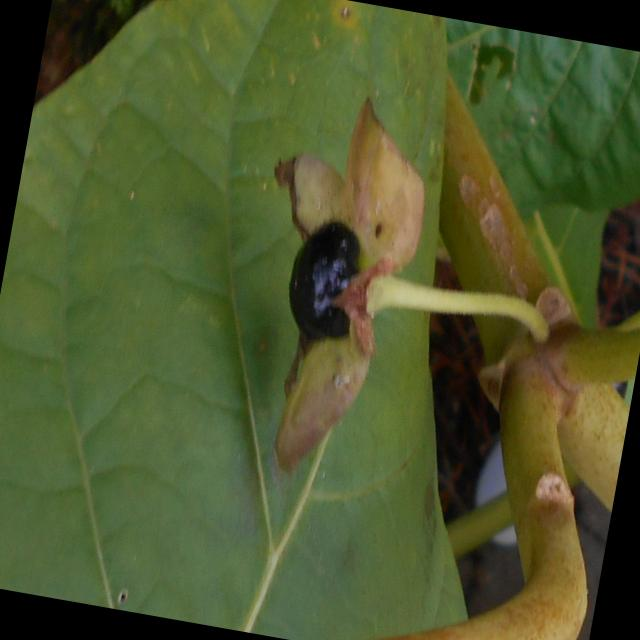Poisonous-Deadly_Nightshade: (223, 88, 484, 494)
